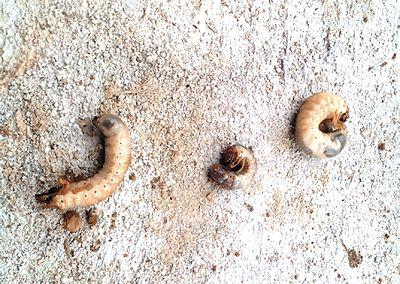grub: (294, 90, 360, 162)
